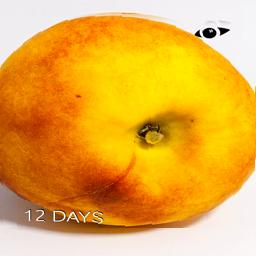Peach Semifresh: (1, 10, 256, 229)
